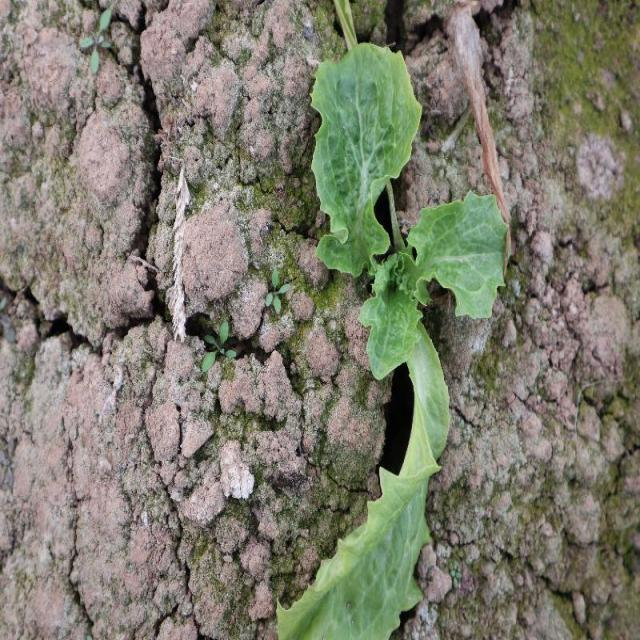crop: (281, 39, 500, 640)
